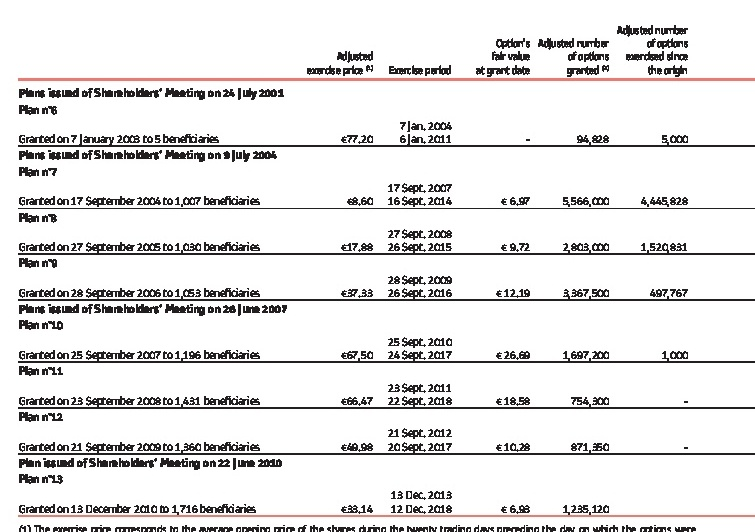table: (0, 0, 755, 532)
